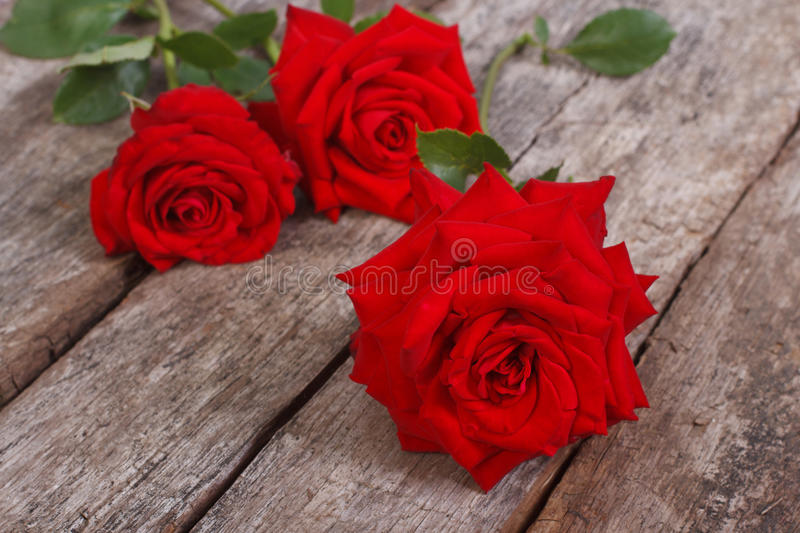RedRose: (343, 163, 668, 490), (260, 2, 486, 225), (87, 77, 294, 272)
